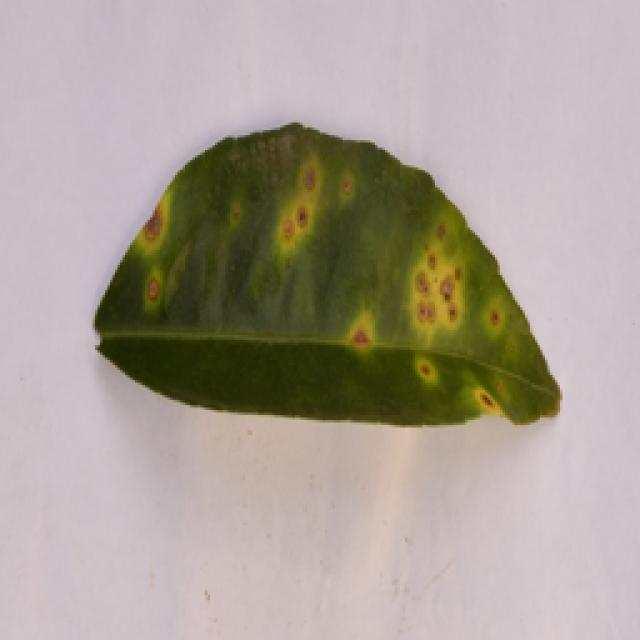canker: (135, 148, 542, 428)
